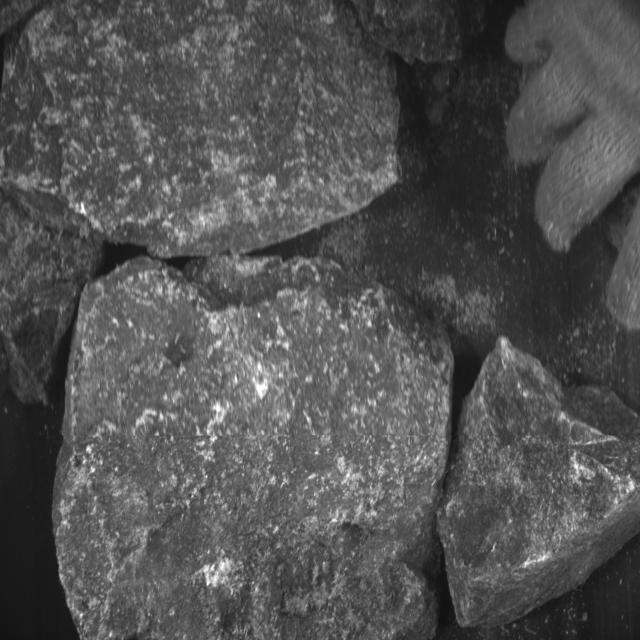Stones: (54, 257, 454, 639), (1, 3, 400, 259), (439, 338, 640, 627), (1, 191, 102, 404)
